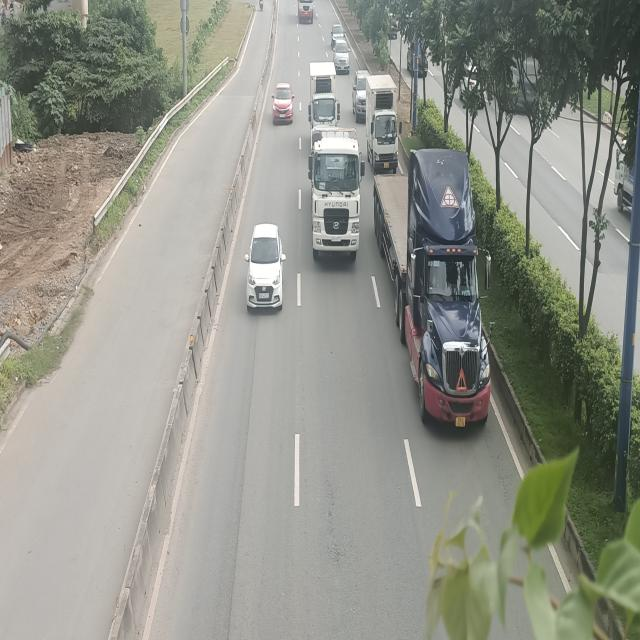car: (244, 222, 286, 311), (352, 69, 372, 122), (271, 84, 295, 124), (333, 40, 350, 74)
container: (373, 146, 491, 426), (307, 126, 365, 260)
truck: (366, 74, 402, 172), (309, 61, 340, 123)
